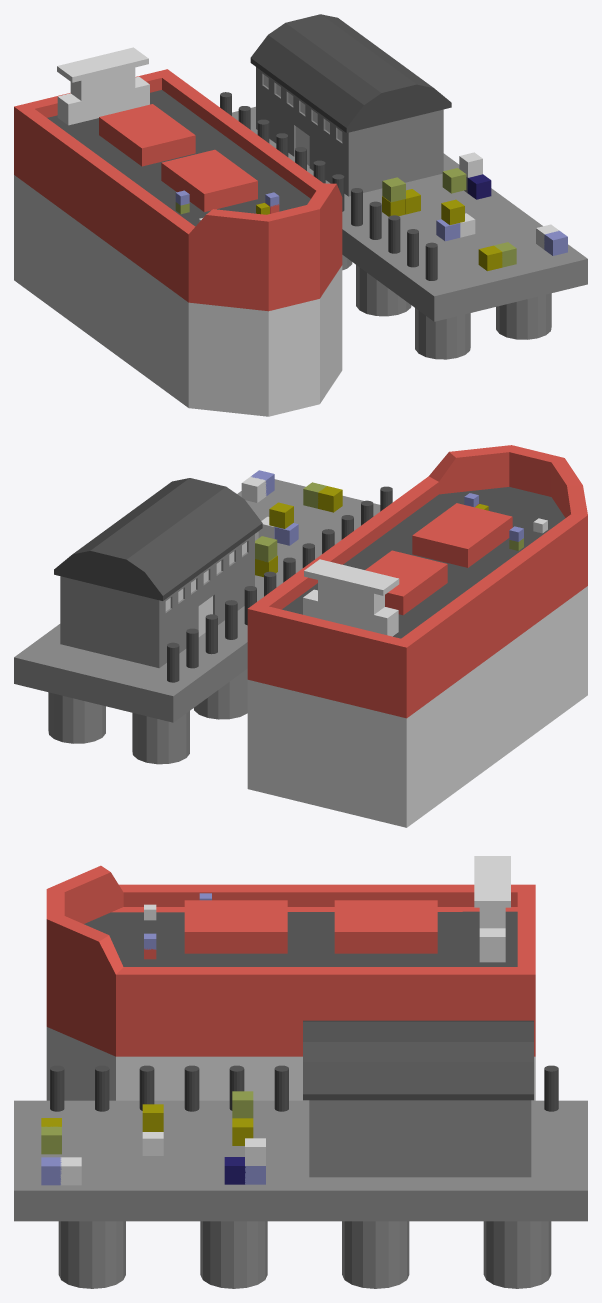
File: Porto.fbx
3 views of the same model, one above another, from view 1: azimuth 30°, elevation 25°; view 2: azimuth 150°, elevation 25°; view 3: azimuth 270°, elevation 25° (orthographic). The views are drawn at different scales.
Visible parts, largest first — view 1: Porto; view 2: Porto; view 3: Porto.
Boxes of the visible parts, x1,y1,x2,y2 form: Porto: [14, 14, 587, 416]; Porto: [14, 445, 587, 827]; Porto: [14, 856, 587, 1288].
Bounding box in the file's own units: 85.11 × 48.69 × 98.68.
